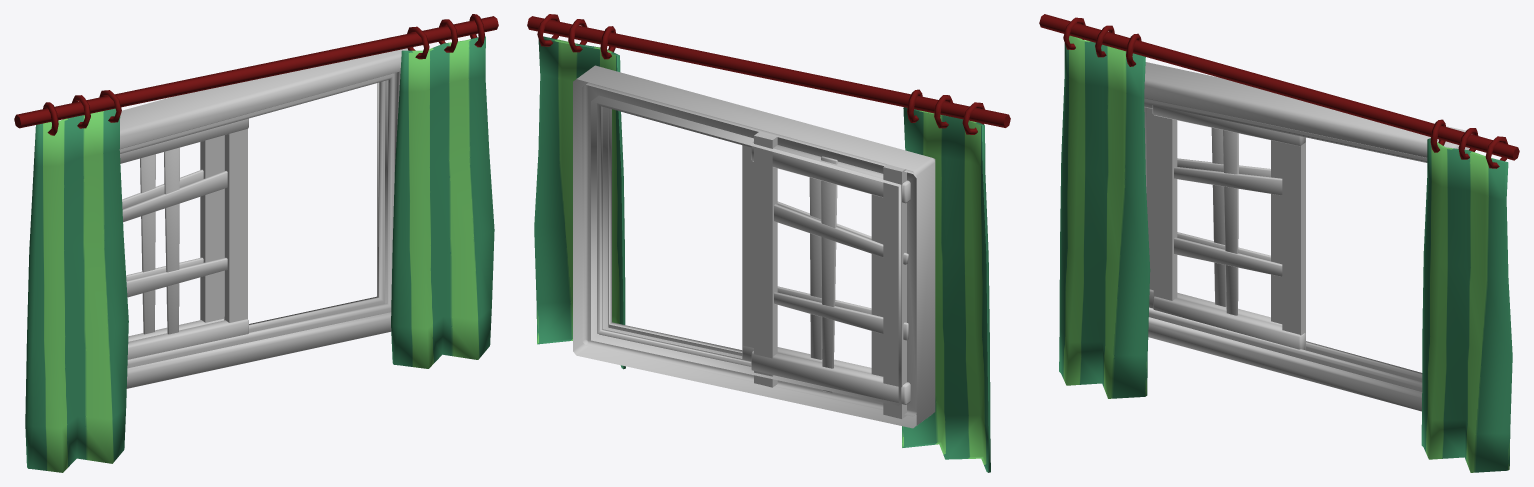
The model's file is windowOpen.fbx.
The picture shows the model from 3 angles, left to right: view 1: azimuth 30°, elevation 25°; view 2: azimuth 150°, elevation 25°; view 3: azimuth 330°, elevation 25°; orthographic projection.
Parts seen in each view (by area): view 1: windowOpen; view 2: windowOpen; view 3: windowOpen.
Boxes of the visible parts, <box> form: windowOpen: <box>14,14,498,472</box>; windowOpen: <box>527,14,1010,472</box>; windowOpen: <box>1039,14,1519,472</box>.
Bounding box in the file's own units: 6.98 × 5.08 × 1.1.
